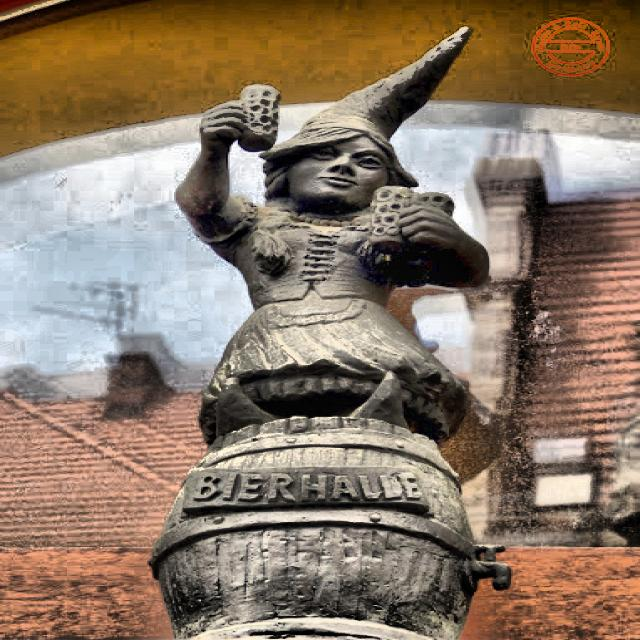Bawarka: (150, 29, 511, 639)
